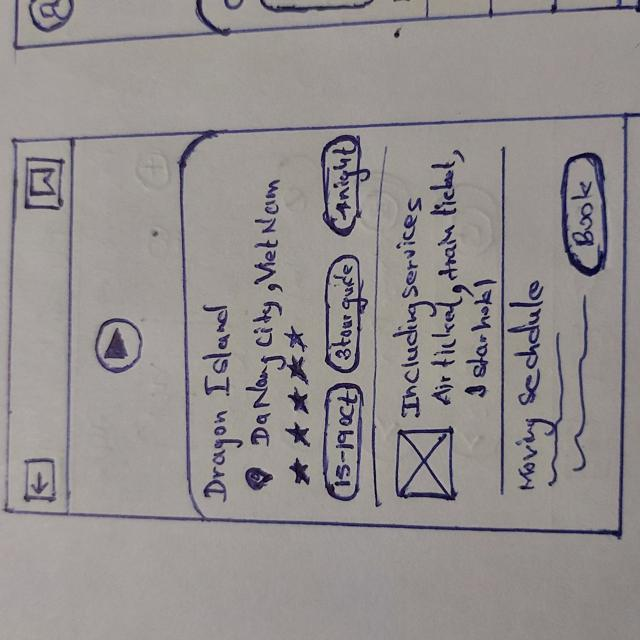ActionButton: (12, 155, 76, 225)
AppBar: (2, 130, 75, 518)
BackButton: (20, 454, 58, 505)
Button: (551, 148, 611, 277)
CardView: (166, 130, 621, 530)
Chips: (316, 134, 369, 235), (322, 379, 364, 505), (324, 257, 366, 377)
Icon: (93, 315, 146, 374), (26, 157, 63, 212), (247, 467, 273, 490)
Image: (393, 424, 460, 508)
MainLayout: (4, 113, 640, 543)
RatingBar: (281, 328, 315, 491)
TextView: (428, 147, 463, 410), (555, 297, 593, 498), (251, 178, 277, 445), (397, 198, 427, 420), (202, 301, 231, 503), (512, 279, 540, 487), (470, 277, 495, 402), (334, 266, 355, 368), (336, 386, 356, 489), (334, 148, 356, 224)
Video: (72, 142, 188, 512)
